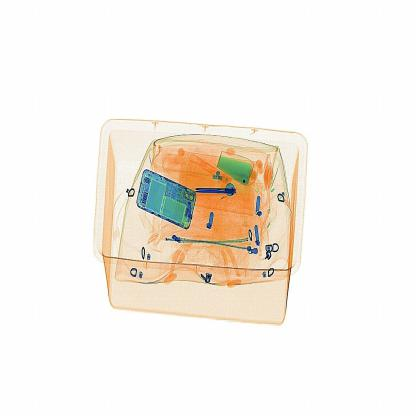wrench: (188, 177, 242, 205)
